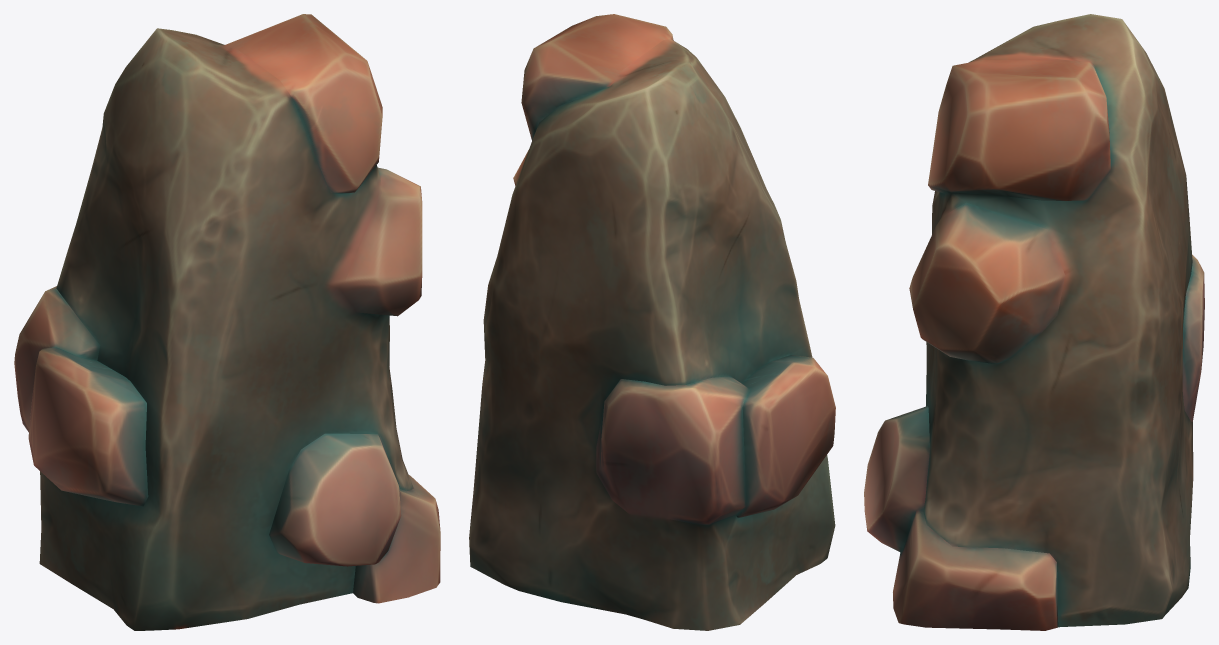
The model's file is SM_Gem_Copper_004.fbx.
The picture shows the model from 3 angles, left to right: view 1: azimuth 30°, elevation 25°; view 2: azimuth 150°, elevation 25°; view 3: azimuth 270°, elevation 25°; orthographic projection. The views are drawn at different scales.
Visible parts, largest first — view 1: SM_Gem_Copper_004; view 2: SM_Gem_Copper_004; view 3: SM_Gem_Copper_004.
Boxes of the visible parts, x1,y1,x2,y2 form: SM_Gem_Copper_004: (14, 14, 440, 630); SM_Gem_Copper_004: (469, 14, 835, 630); SM_Gem_Copper_004: (864, 14, 1204, 630).
Size of the model in its own units: 57.62 by 85.8 by 50.5.
